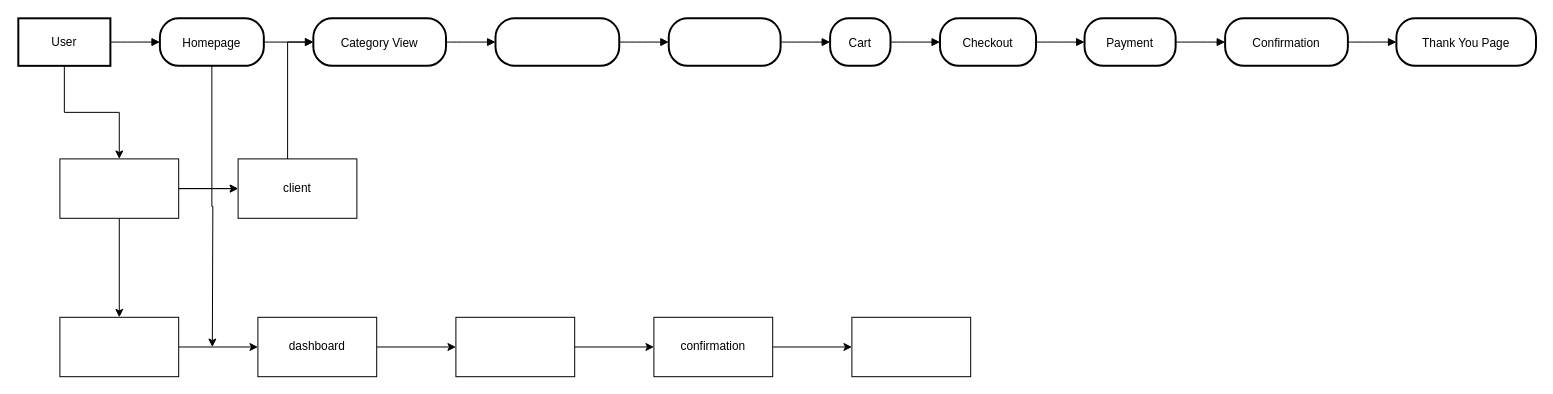
This 1553x394 diagram has some shape labels left out. Here are the shapes that lost their labels. From the top down, the centre of each, then its label:
the point at 557,41: Product View
the point at 724,41: Add to Cart
the point at 119,188: signup/login
the point at 119,346: seller
the point at 515,346: veiw orders
the point at 911,346: shipping
